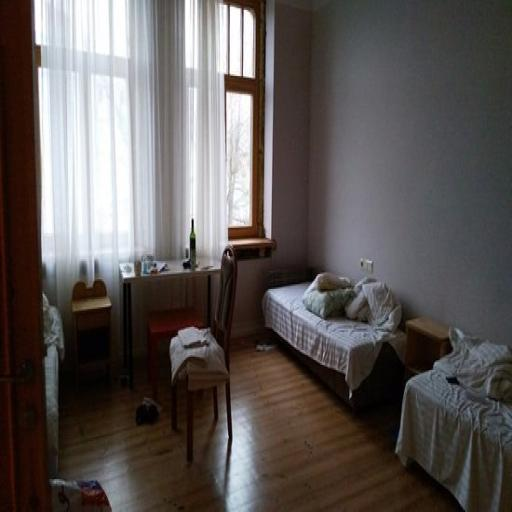bottle: (170, 244, 238, 461)
person: (395, 328, 512, 510), (262, 276, 405, 410), (43, 294, 64, 477)
phone: (119, 259, 221, 390)
